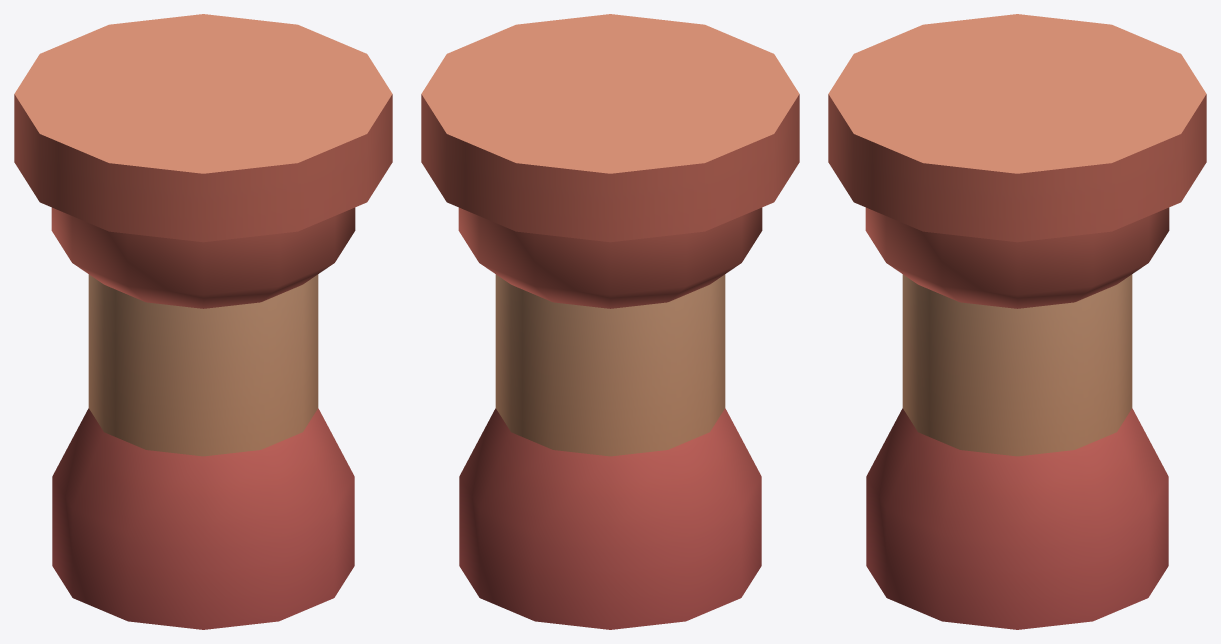
File: column.obj
3 views of the same model, side by side, from view 1: azimuth 30°, elevation 25°; view 2: azimuth 150°, elevation 25°; view 3: azimuth 270°, elevation 25° (orthographic).
Parts seen in each view (by area): view 1: column; view 2: column; view 3: column.
Boxes of the visible parts, x1,y1,x2,y2 form: column: (14, 14, 392, 629); column: (421, 14, 799, 629); column: (828, 14, 1206, 629).
Bounding box in the file's own units: 0.7258 × 1 × 0.7258.
